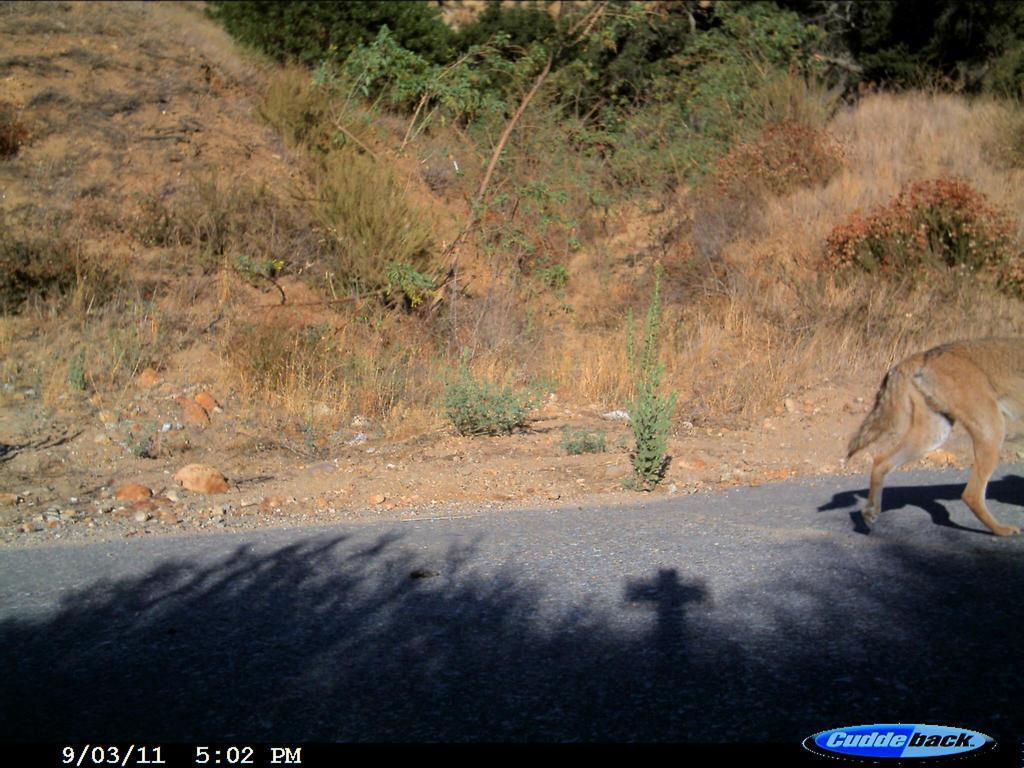coyote: (843, 331, 1023, 542)
